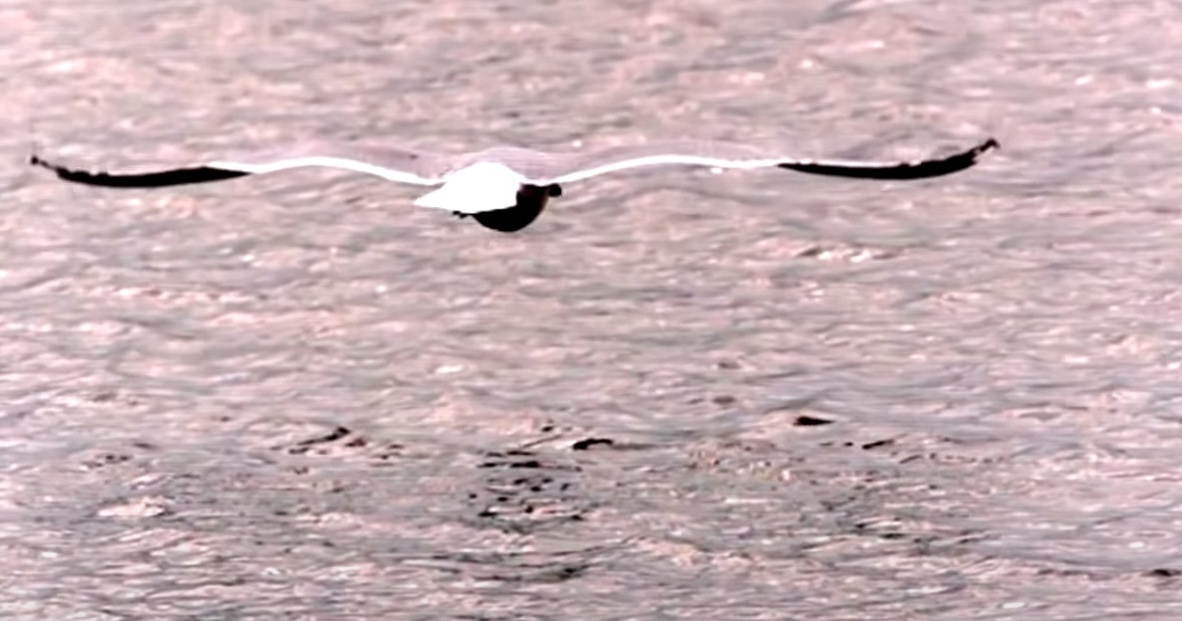bird: (6, 135, 1008, 232)
